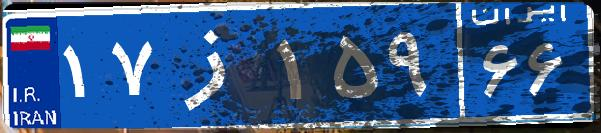1: (273, 28, 330, 110), (57, 26, 110, 107)
5: (330, 28, 385, 110)
6: (475, 38, 525, 113), (525, 38, 570, 115)
7: (110, 28, 158, 105)
9: (385, 28, 445, 110)
ز: (158, 15, 273, 115)
